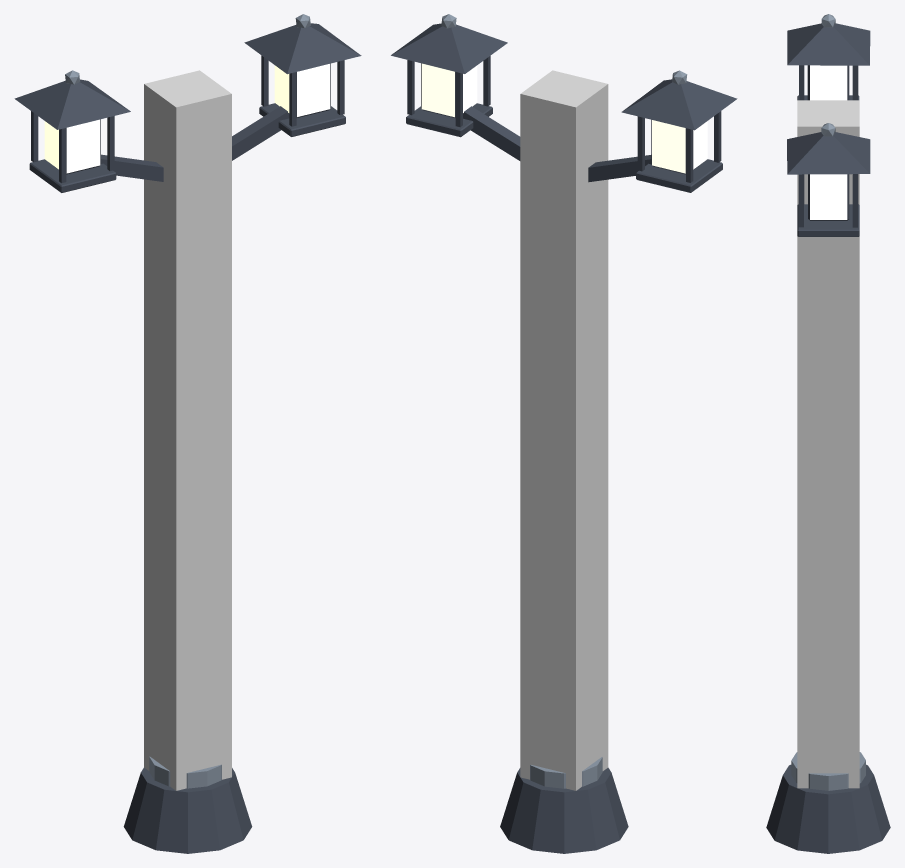
Rendered from prop_lamp_a.glb.
3 views of the same model, side by side, from view 1: azimuth 30°, elevation 25°; view 2: azimuth 150°, elevation 25°; view 3: azimuth 270°, elevation 25° (orthographic). The views are drawn at different scales.
Parts seen in each view (by area): view 1: COL_prop_lamp_a_1, prop_lamp_a; view 2: COL_prop_lamp_a_1, prop_lamp_a; view 3: COL_prop_lamp_a_1, prop_lamp_a.
Part boxes in pixels (box(x1,y1,x2,y2)): COL_prop_lamp_a_1: box(144, 70, 231, 790); prop_lamp_a: box(14, 14, 361, 853); COL_prop_lamp_a_1: box(520, 70, 608, 790); prop_lamp_a: box(391, 14, 737, 853); COL_prop_lamp_a_1: box(797, 100, 859, 788); prop_lamp_a: box(766, 14, 890, 853).
Size of the model in its own units: 1.64 by 4.04 by 0.6.
